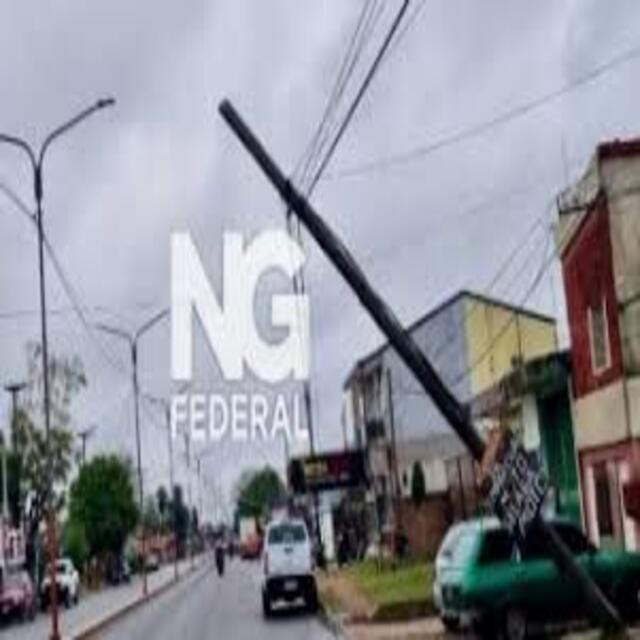Inclined Pole: (209, 97, 637, 640)
